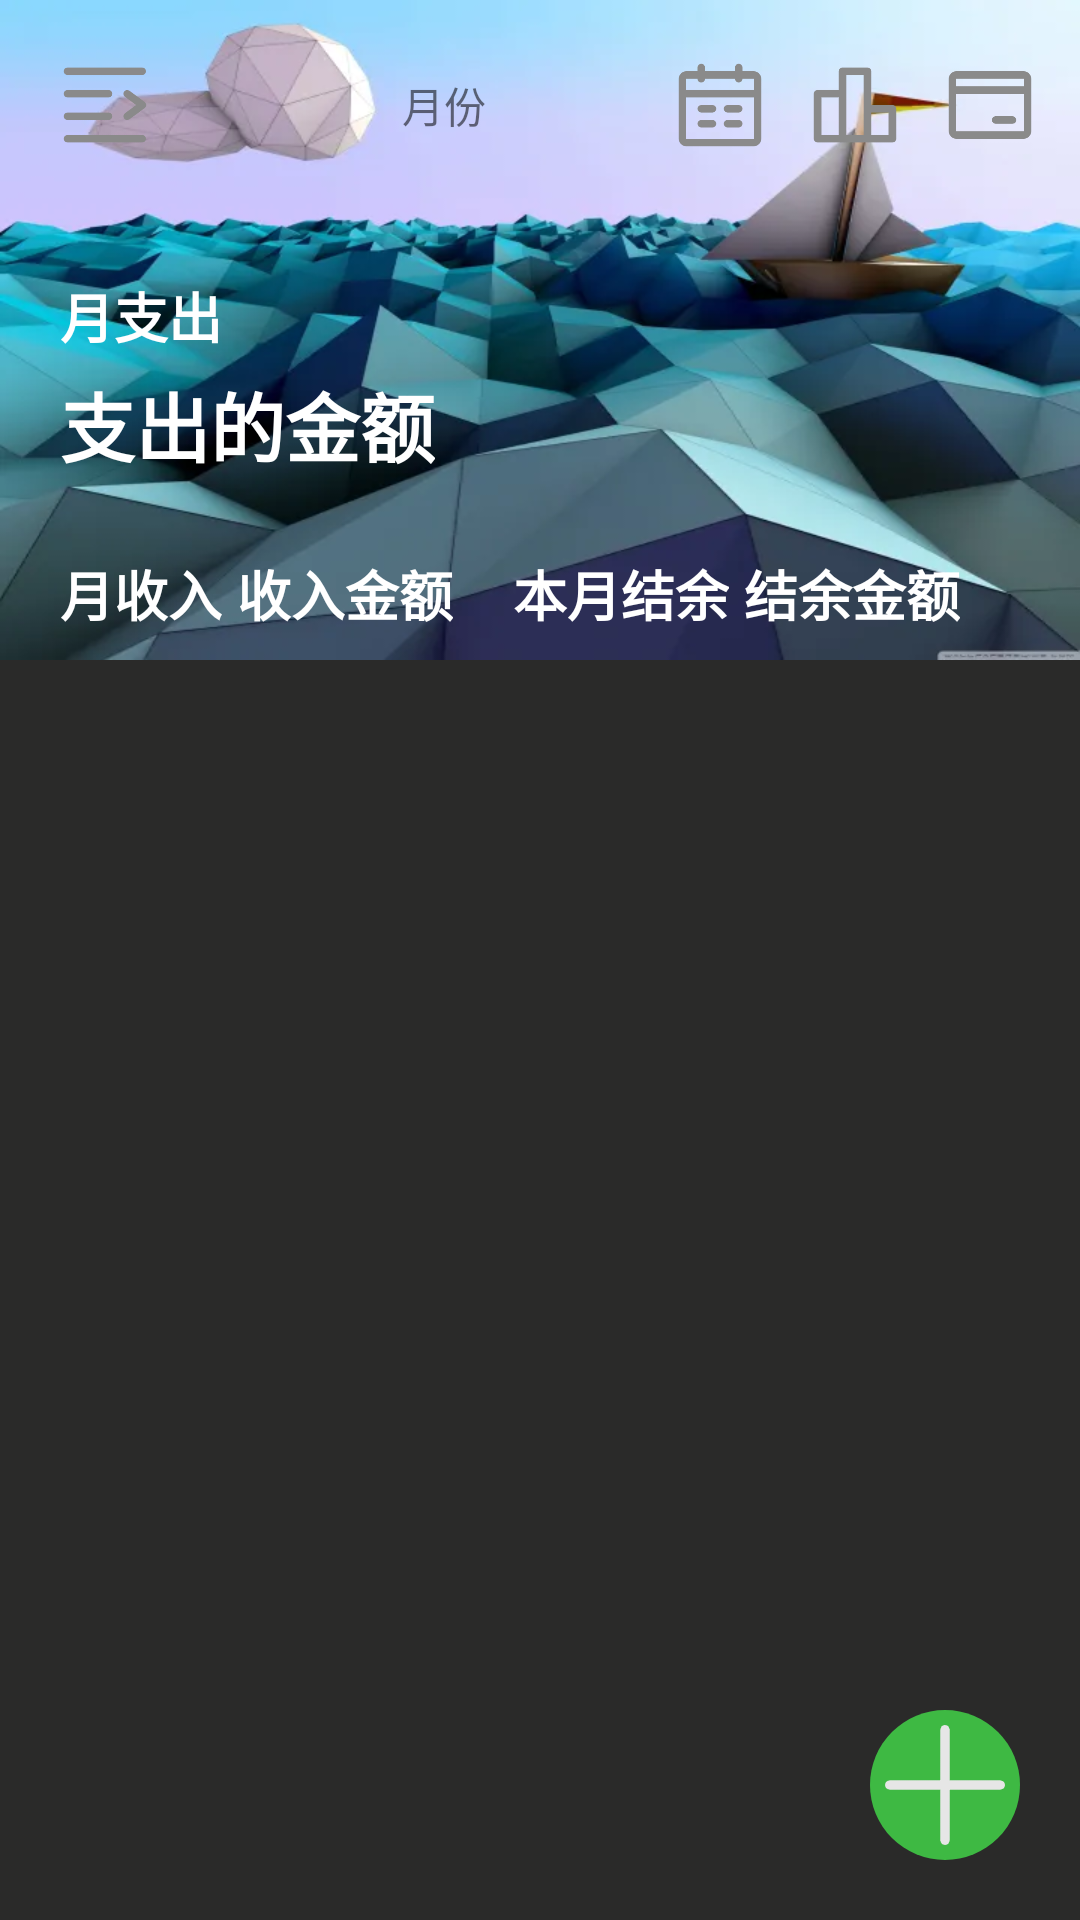

Where to tap for icons on this 1080px×1920px app screen, as point (x, y):
add: point (945, 1785)
left list: point (105, 105)
month forms: point (720, 106)
wallet: point (988, 105)
